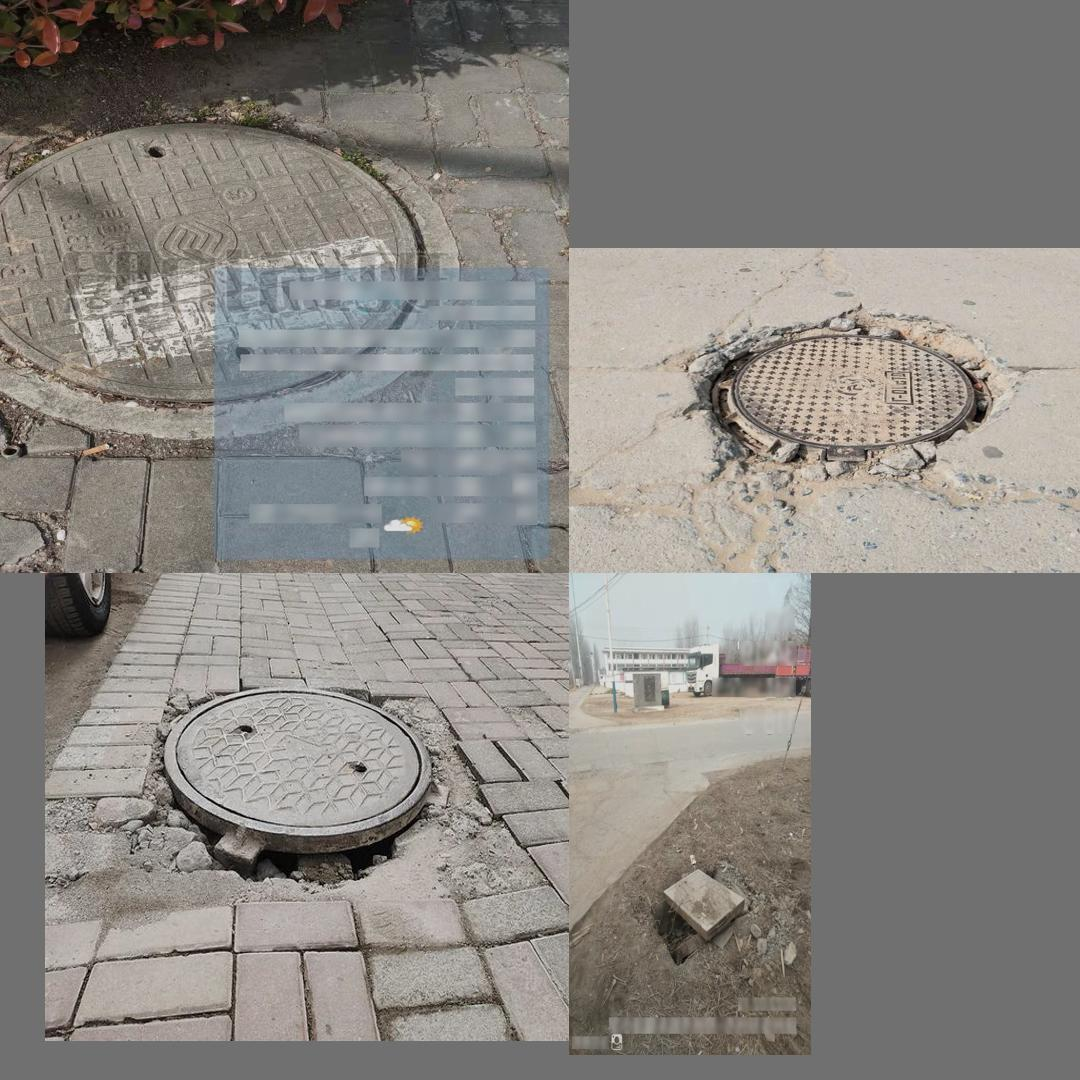circle: (0, 108, 433, 426), (113, 674, 531, 929), (663, 305, 1034, 486), (644, 857, 757, 974)
